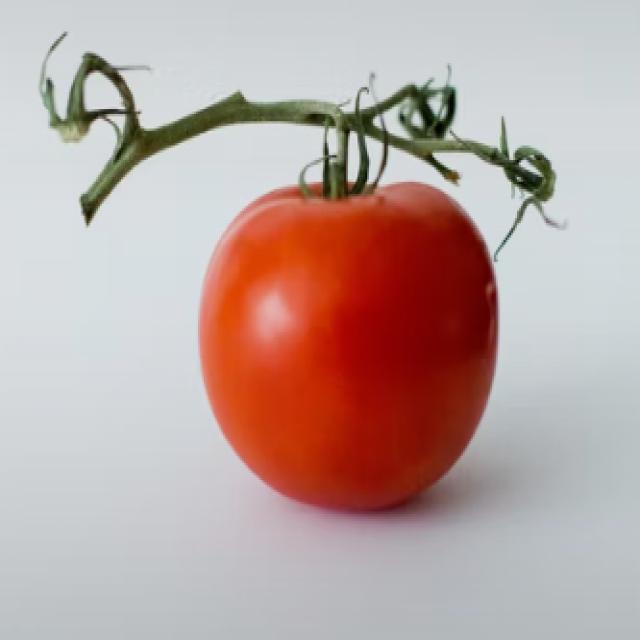Tomato: (216, 113, 492, 509)
